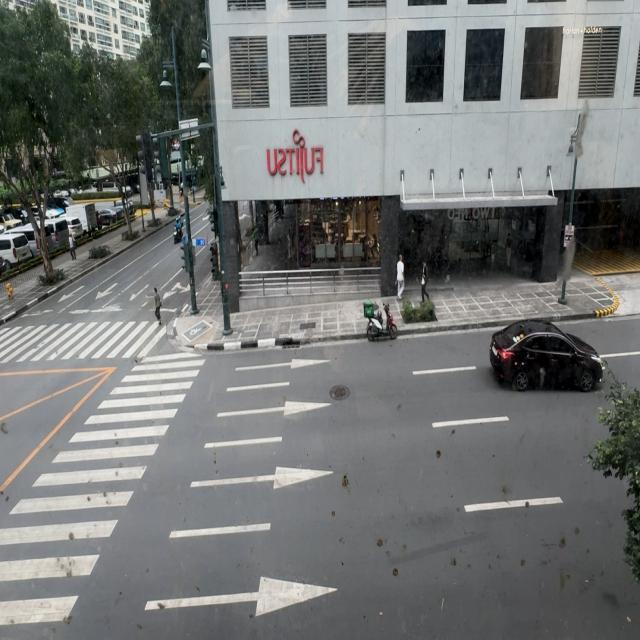jaywalking: (152, 287, 162, 324)
